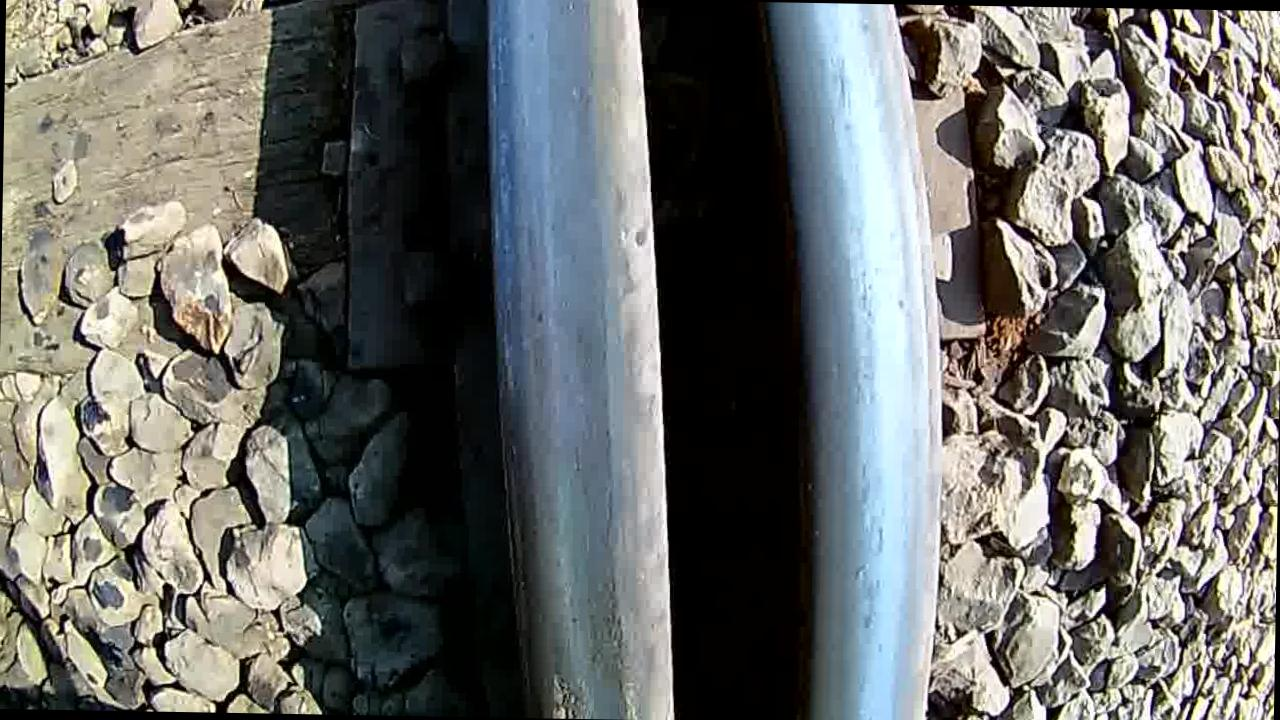crack: (489, 261, 674, 720)
